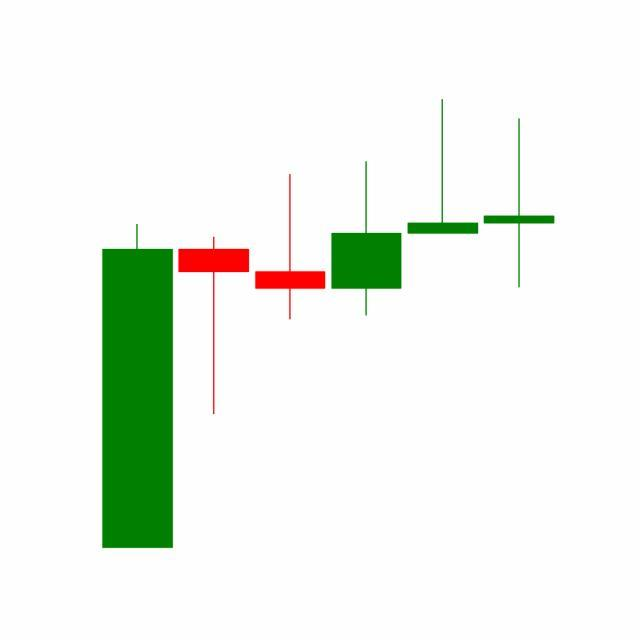Gravestone Doji: (404, 98, 482, 235)
